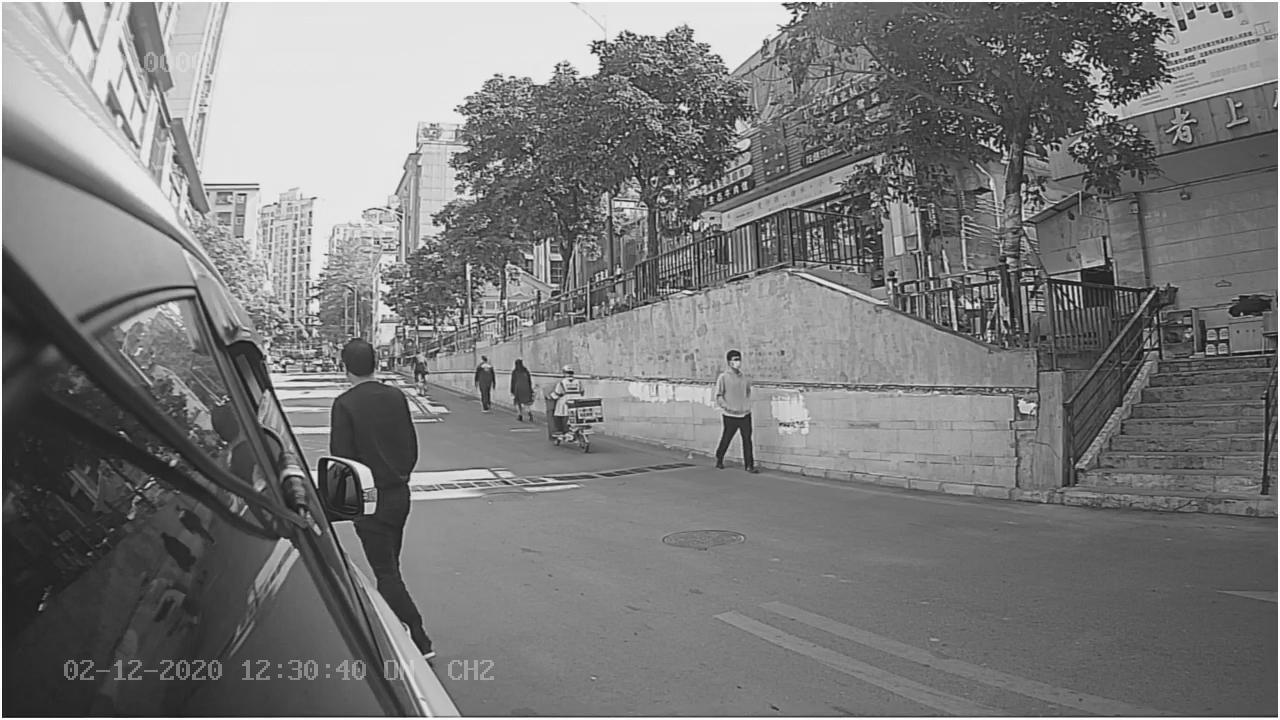person: (325, 337, 421, 454)
